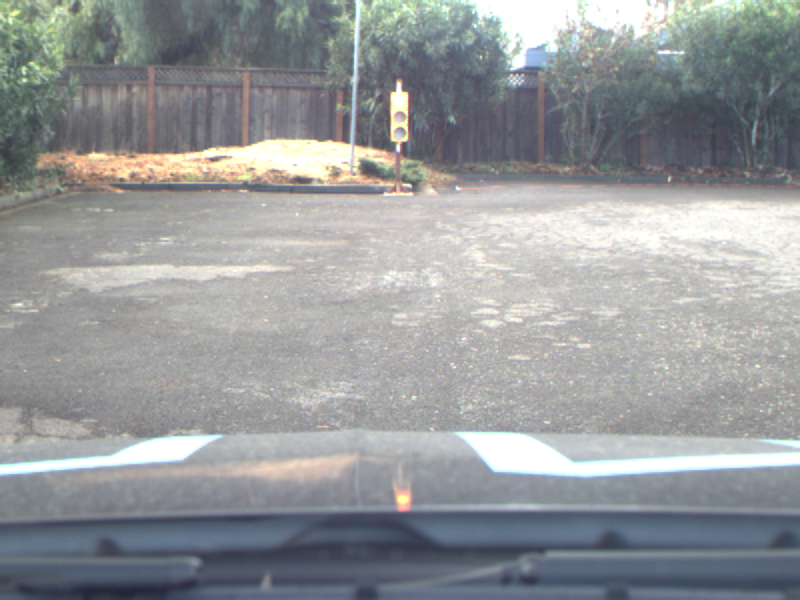Red: (389, 90, 409, 141)
